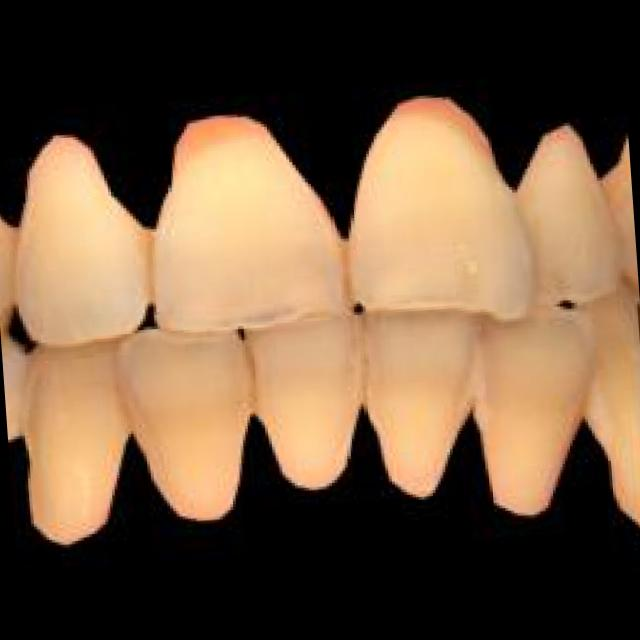cavity: (133, 222, 161, 296), (238, 338, 266, 406), (334, 234, 356, 298), (468, 308, 499, 340)
tooth: (336, 81, 524, 329), (142, 98, 351, 320), (3, 118, 152, 341), (114, 324, 270, 530), (246, 314, 380, 496), (509, 102, 622, 306), (362, 304, 480, 499), (24, 341, 121, 543)
